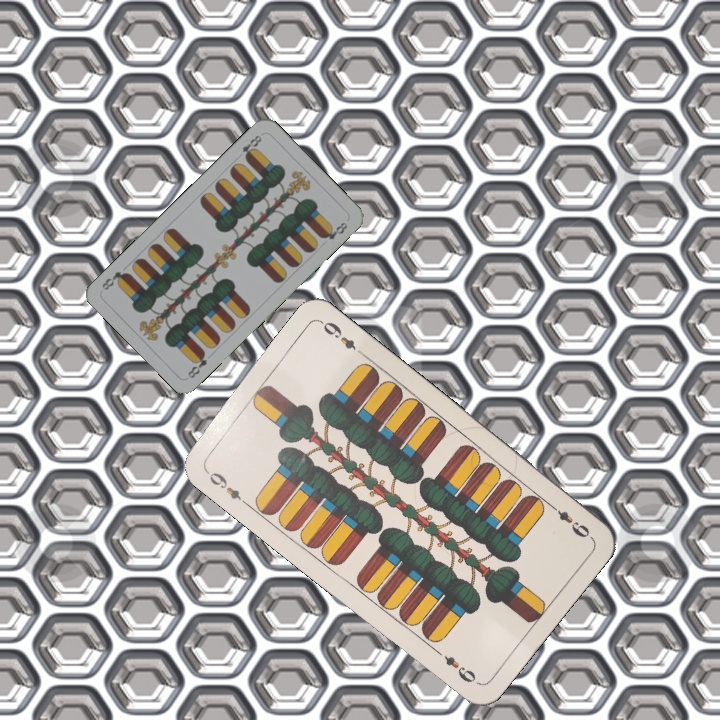E8: (184, 347, 210, 381), (238, 131, 264, 162)
E9: (201, 465, 250, 508), (544, 499, 594, 541)
